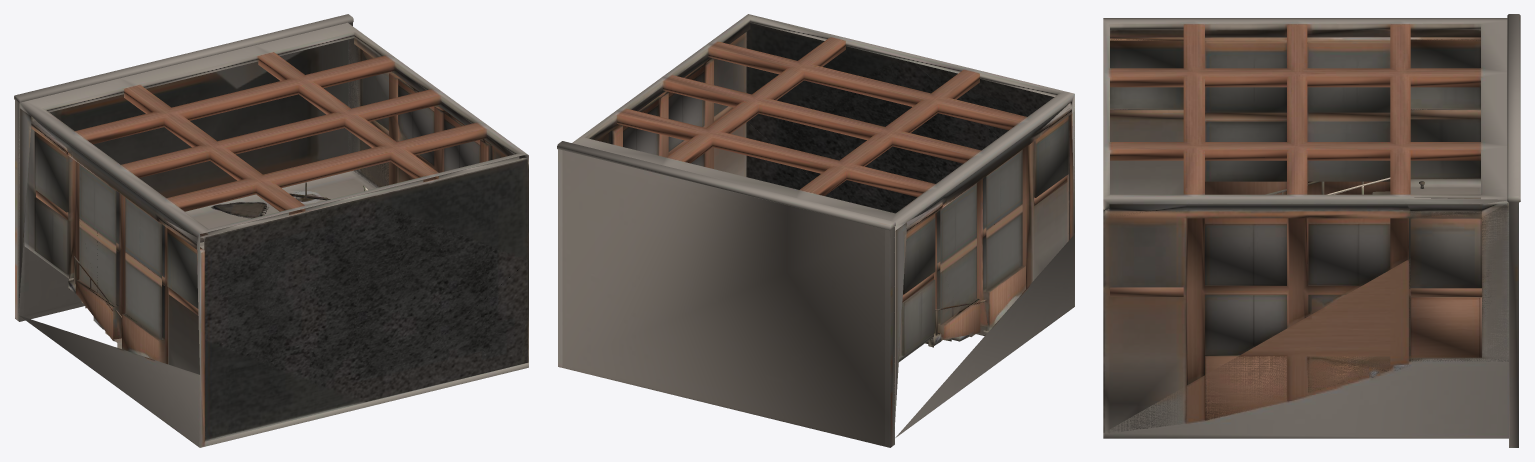
File: brooklyn-table-auditorium.glb
3 views of the same model, side by side, from view 1: azimuth 30°, elevation 25°; view 2: azimuth 150°, elevation 25°; view 3: azimuth 270°, elevation 25° (orthographic). The views are drawn at different scales.
Visible parts, largest first — view 1: Walnut Panel Auditorium; view 2: Walnut Panel Auditorium; view 3: Walnut Panel Auditorium.
Boxes of the visible parts, x1=… form: Walnut Panel Auditorium: x1=14, y1=14, x2=528, y2=447; Walnut Panel Auditorium: x1=557, y1=14, x2=1074, y2=447; Walnut Panel Auditorium: x1=1103, y1=14, x2=1520, y2=447.
Size of the model in its own units: 0.998 by 0.6387 by 0.9629.
Materials: 1 (1 with a texture image).
